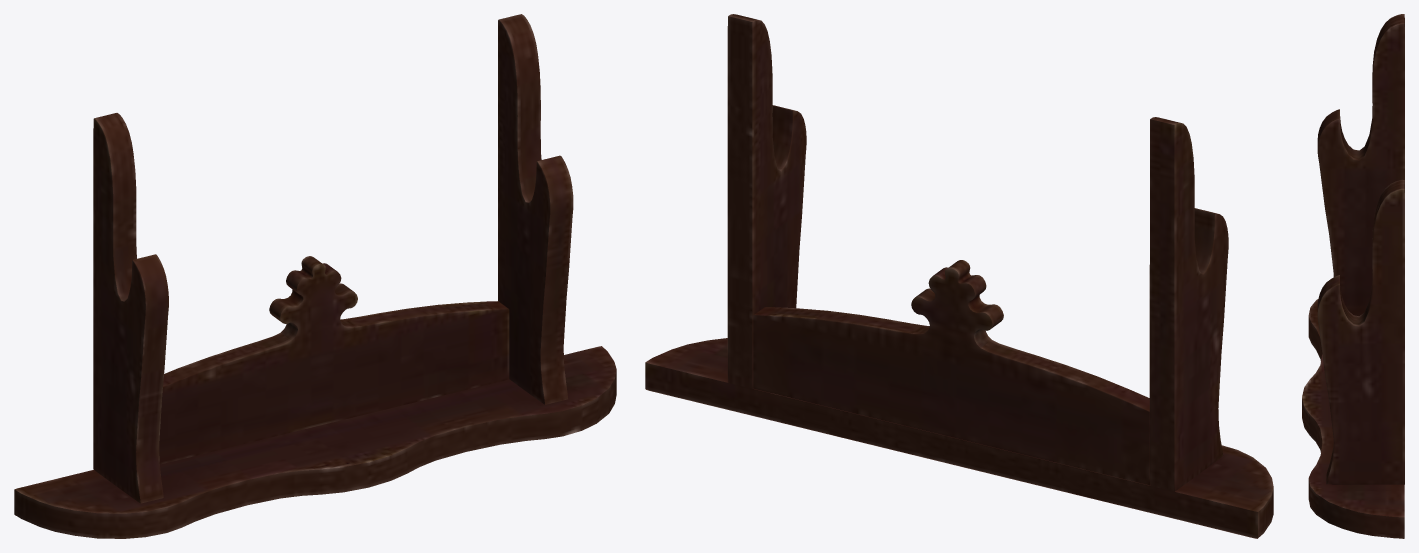
The model's file is stand-katana.13162fce.glb.
The picture shows the model from 3 angles, left to right: view 1: azimuth 30°, elevation 25°; view 2: azimuth 150°, elevation 25°; view 3: azimuth 270°, elevation 25°; orthographic projection. The views are drawn at different scales.
Parts seen in each view (by area): view 1: model; view 2: model; view 3: model.
Part boxes in pixels (box(x1,y1,x2,y2)): model: box(14, 14, 616, 538); model: box(645, 14, 1273, 538); model: box(1302, 14, 1404, 538).
Bounding box in the file's own units: 0.2958 × 0.1819 × 0.0535.
Materials: 1 (1 with a texture image).
